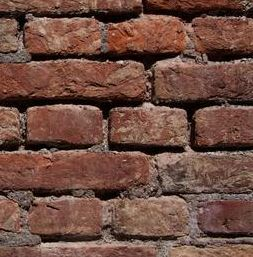brick: (1, 60, 147, 102), (1, 152, 150, 191), (151, 63, 253, 103), (156, 153, 253, 195), (108, 106, 188, 149), (111, 195, 187, 240), (25, 104, 105, 146), (22, 14, 102, 54), (28, 196, 103, 238), (106, 18, 187, 54), (192, 107, 253, 148), (191, 16, 253, 54), (196, 197, 253, 235)
